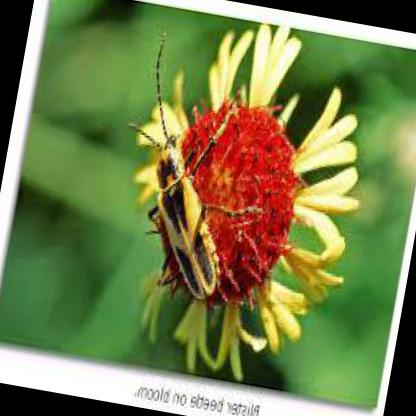blister beetle: (127, 35, 259, 302)
